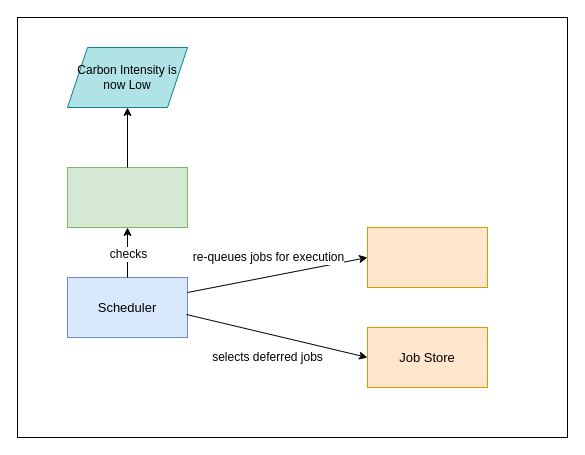
The diagram is 585 pixels wide and 455 high, and some of its shapes have lost their labels. Here are the shapes that lost their labels. From the top down, the box of each, then its label:
(66, 166, 188, 228): Carbon Intensity Source
(366, 226, 488, 288): Message Queue
